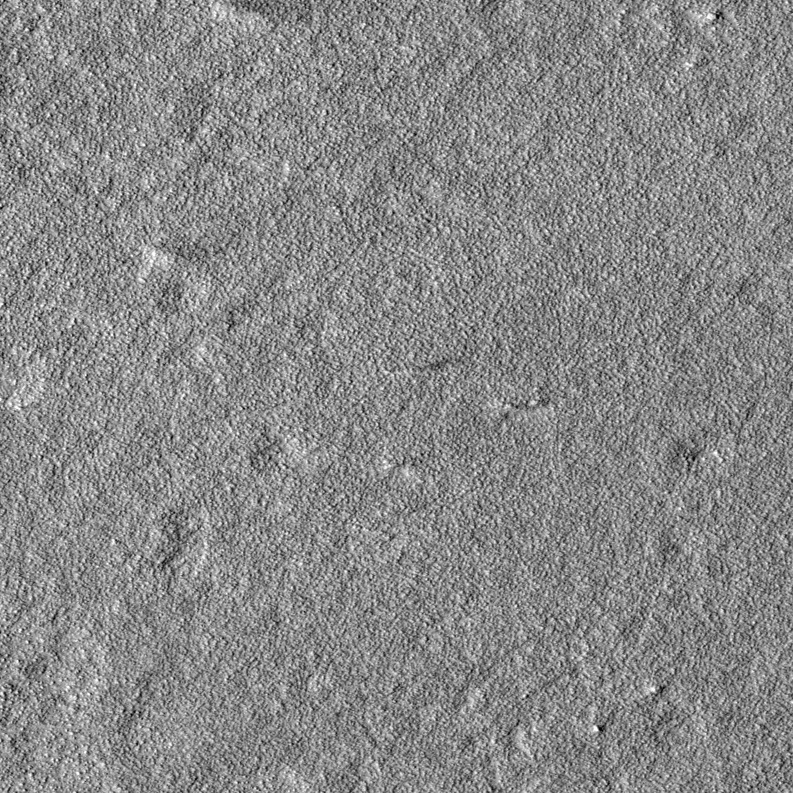dust_devil: (208, 1, 316, 31), (142, 239, 212, 276)
